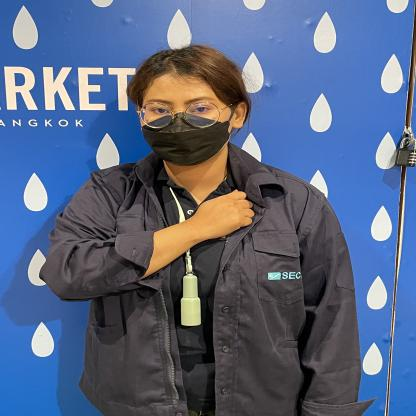Sadness: (131, 169, 325, 254)
